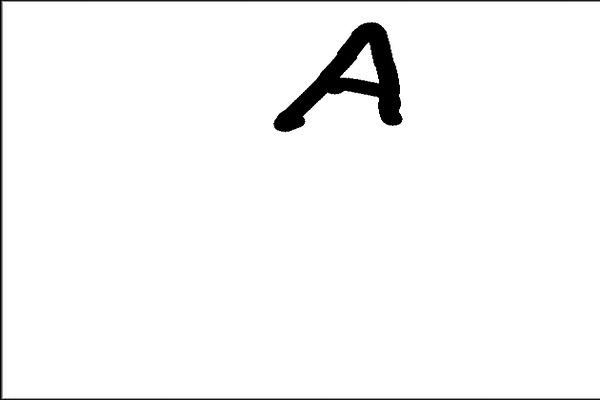A: (259, 13, 413, 134)
